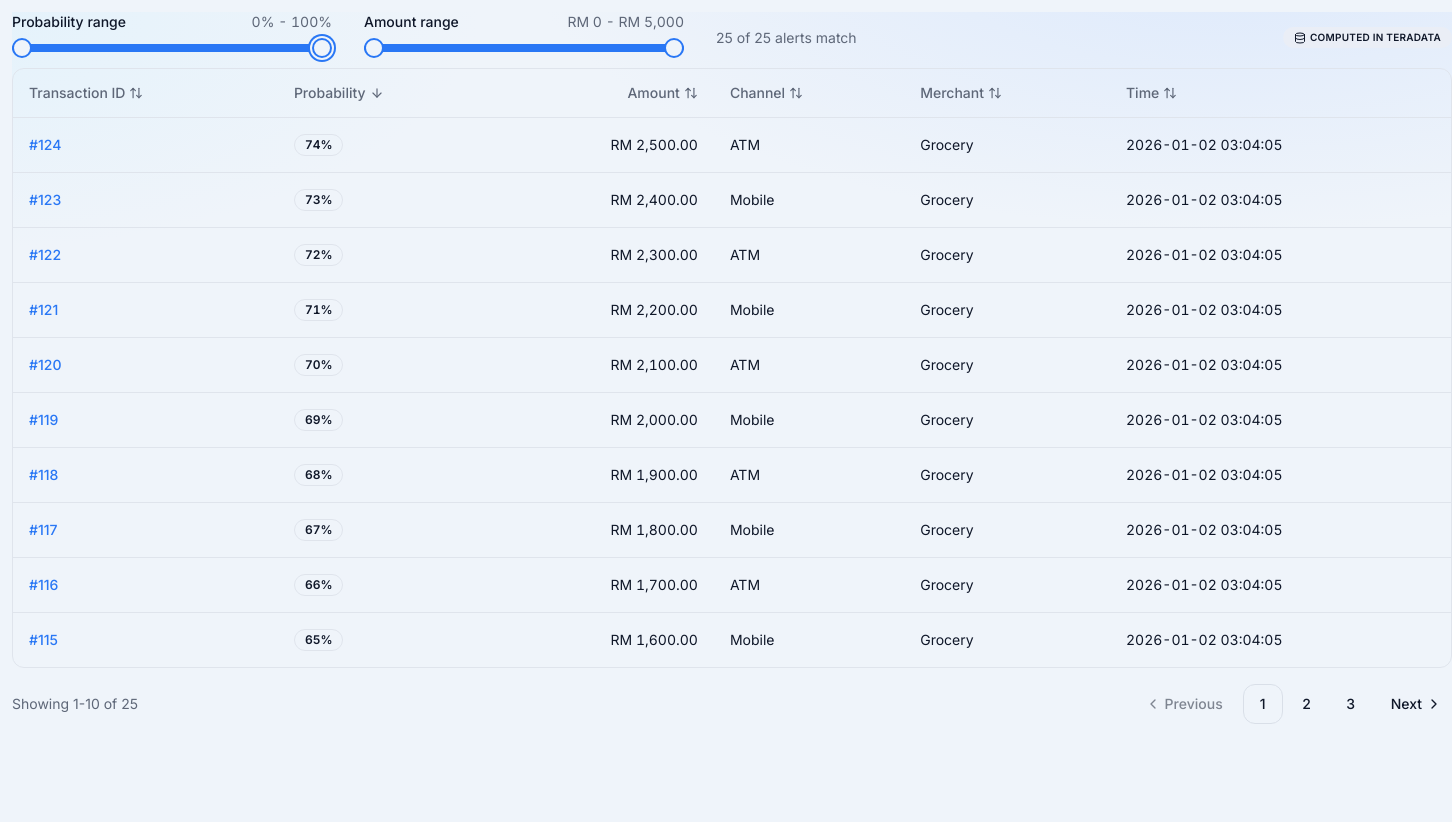
Test: Reset filters puts both ranges back to the full span
Expected: the text "Showing 1-10 of 25" is shown, [12,694,138,714]
Expected: the button "Reset filters" is not shown
Press Pagedown
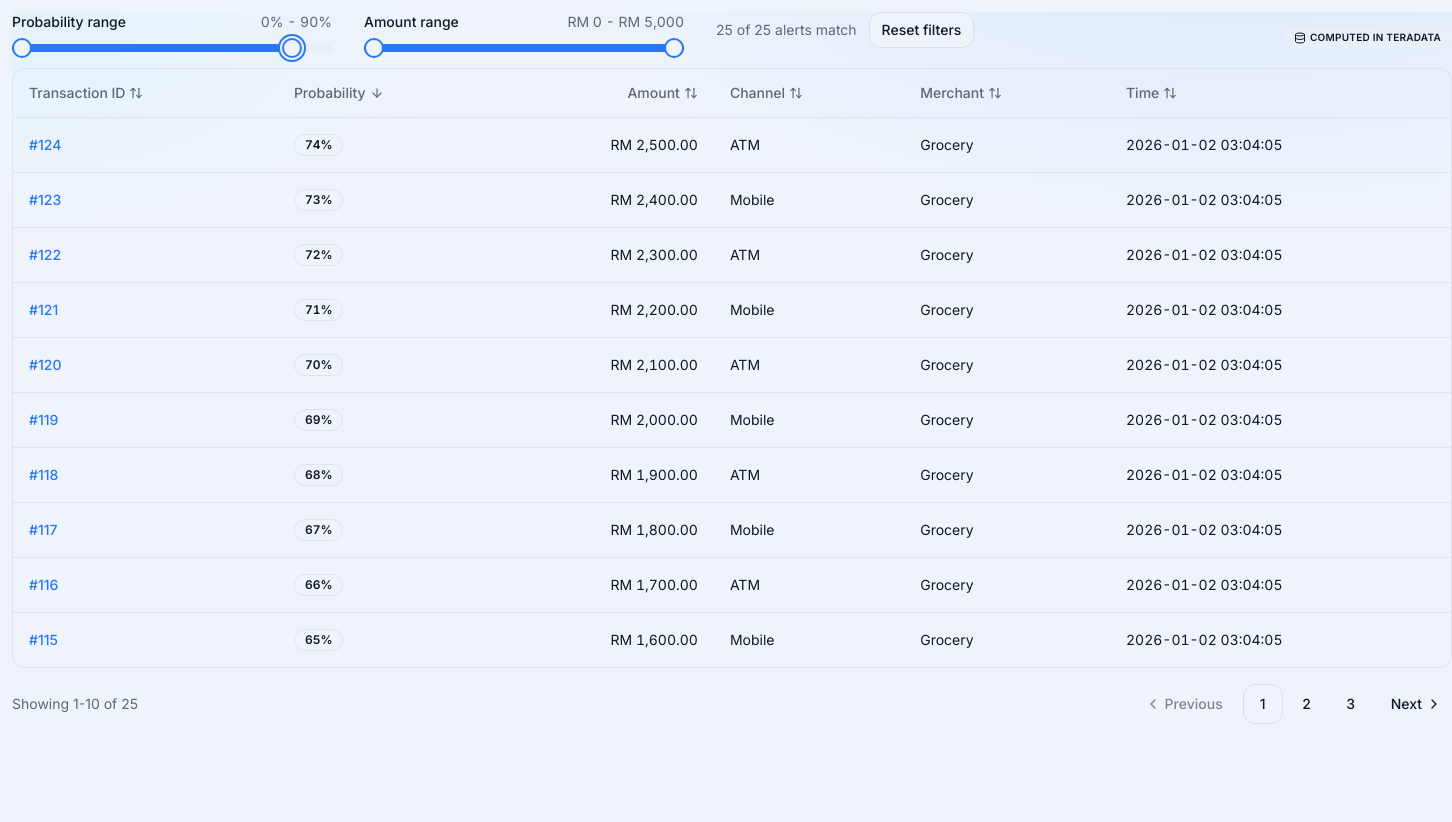
Press Pagedown
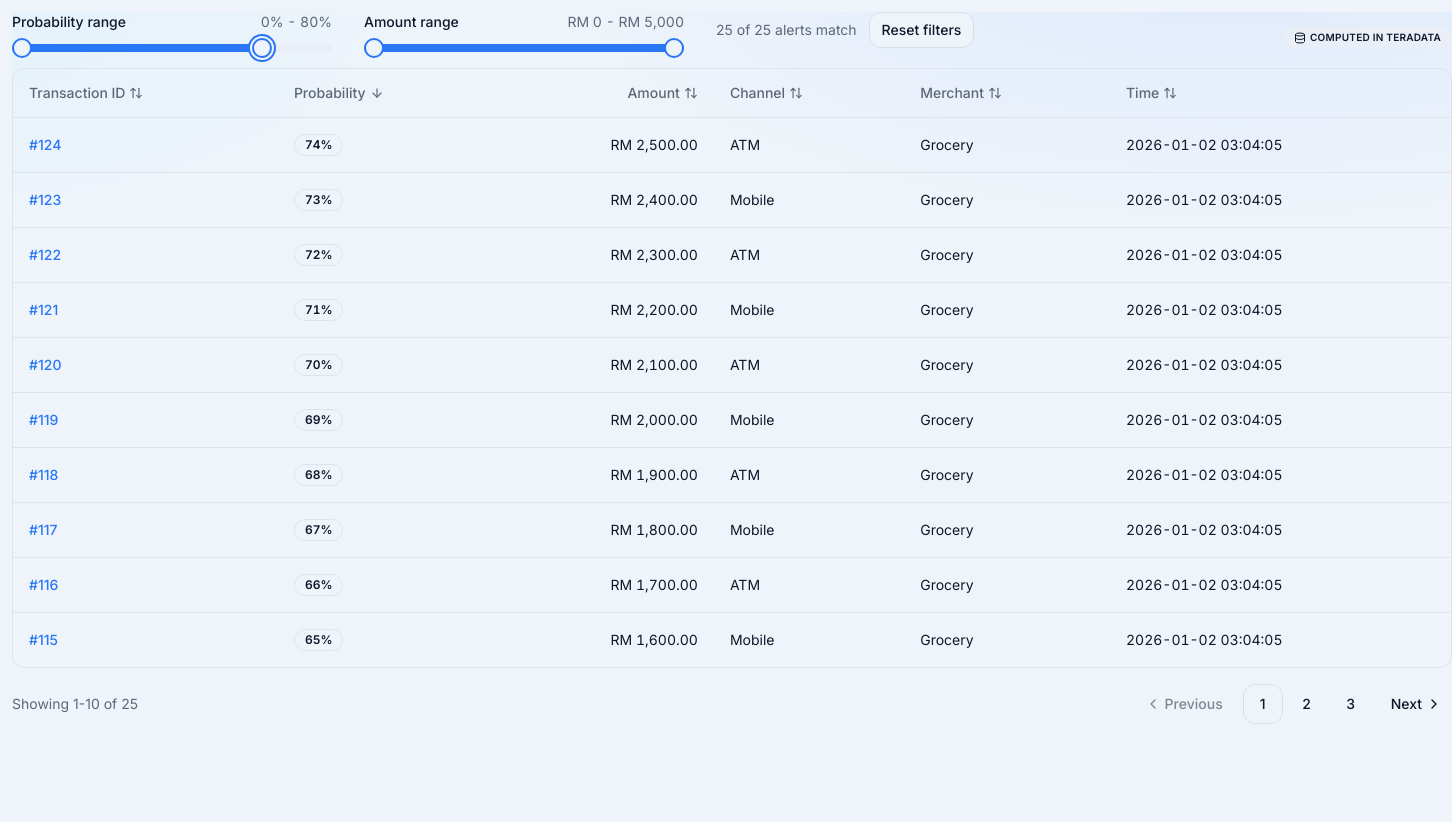
Press Pagedown
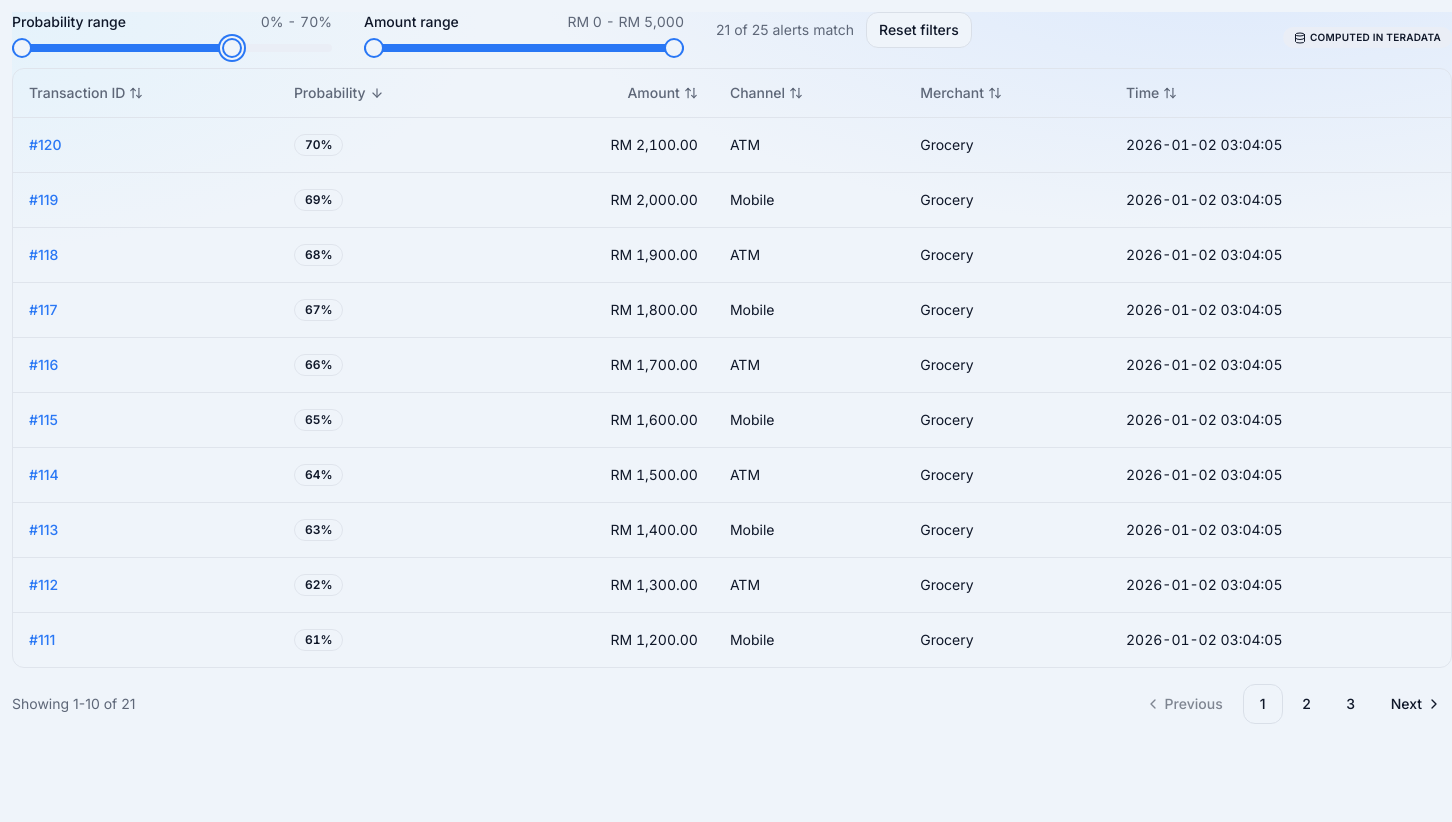
Result: the text "21 of 25 alerts match" is shown at [716,20,854,40]
Click the button "Reset filters". click: click(919, 30)
box: [866,12,972,48]
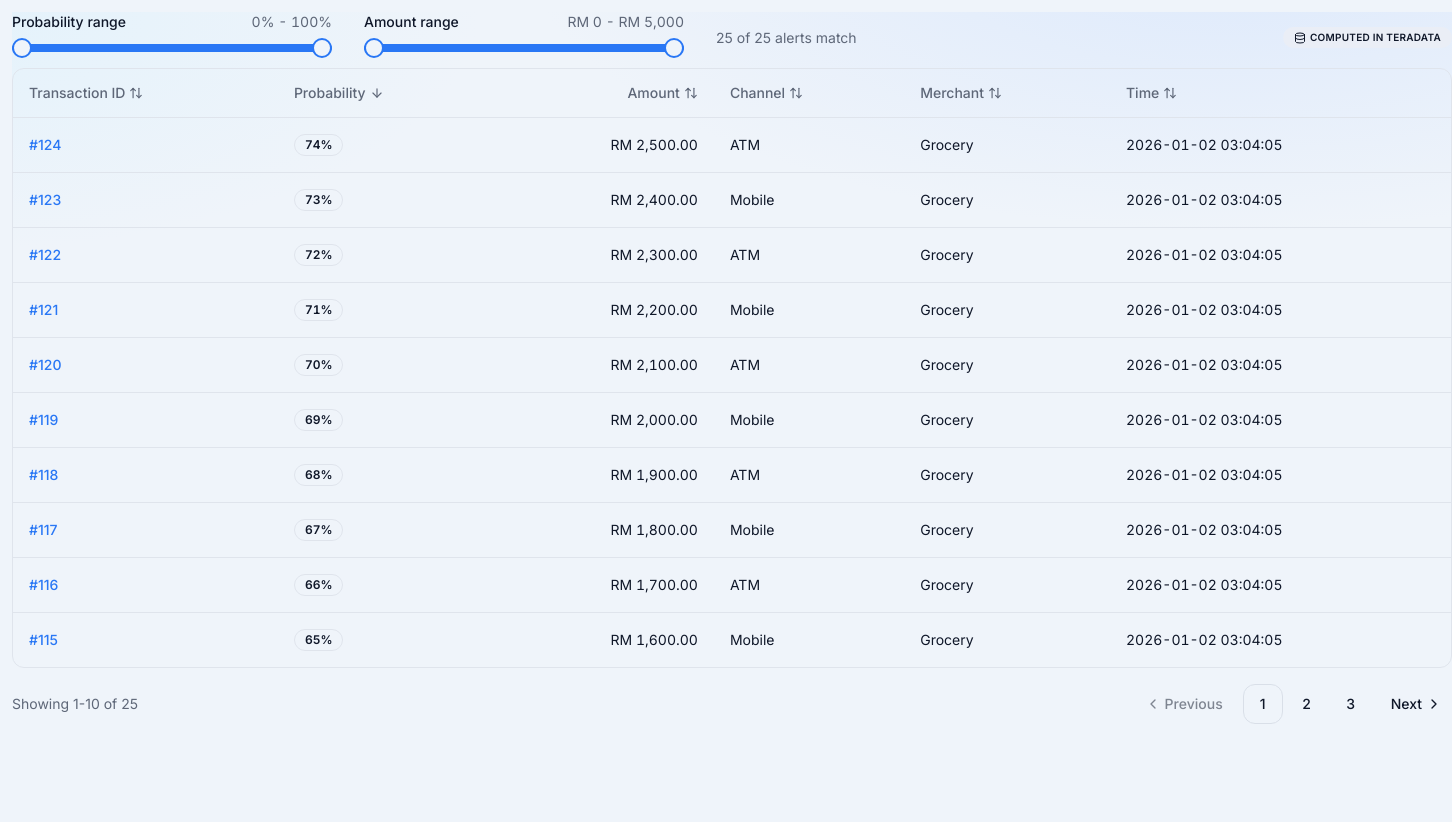
Result: the text "25 of 25 alerts match" is shown at [716,28,857,48]
Result: the button "Reset filters" is gone
